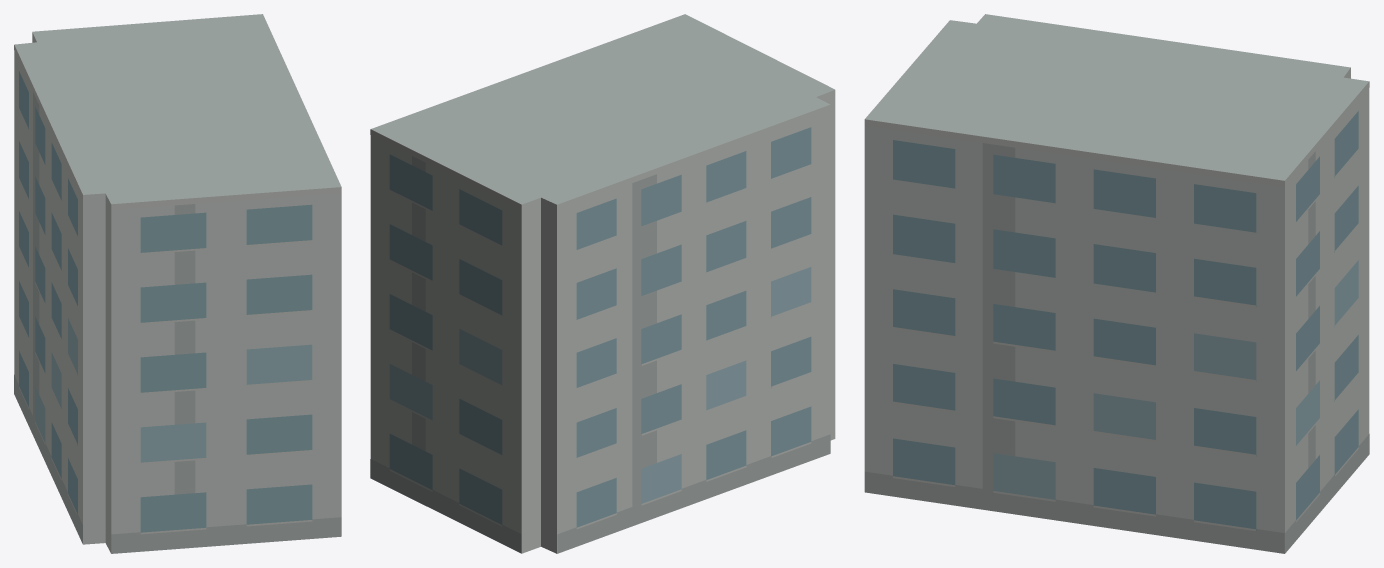
File: survey-upis-32886802.glb
The picture shows the model from 3 angles, left to right: view 1: azimuth 30°, elevation 25°; view 2: azimuth 150°, elevation 25°; view 3: azimuth 270°, elevation 25°; orthographic projection. The views are drawn at different scales.
Visible parts, largest first — view 1: survey-upis-32886802.tmp; view 2: survey-upis-32886802.tmp; view 3: survey-upis-32886802.tmp.
Boxes of the visible parts, left/top/right/bottom form: survey-upis-32886802.tmp: left=14, top=14, right=341, bottom=553; survey-upis-32886802.tmp: left=370, top=14, right=835, bottom=553; survey-upis-32886802.tmp: left=864, top=14, right=1369, bottom=553.
Size of the model in its own units: 13.72 by 14.3 by 17.54.
